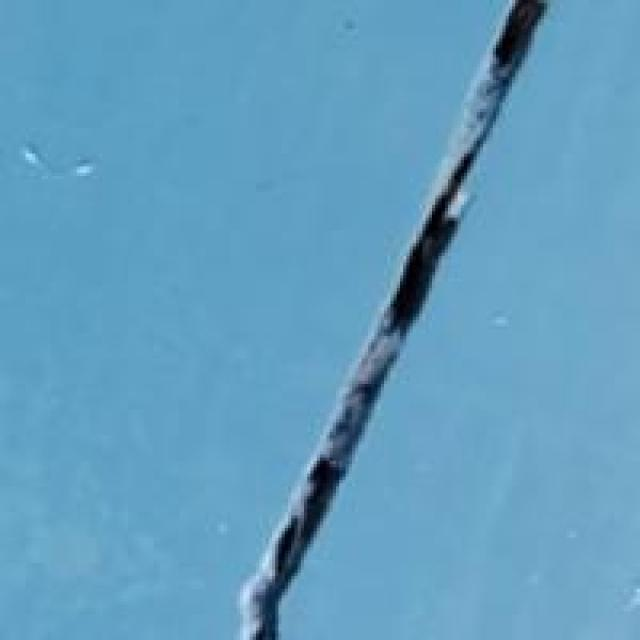Crack: (231, 0, 583, 637)
